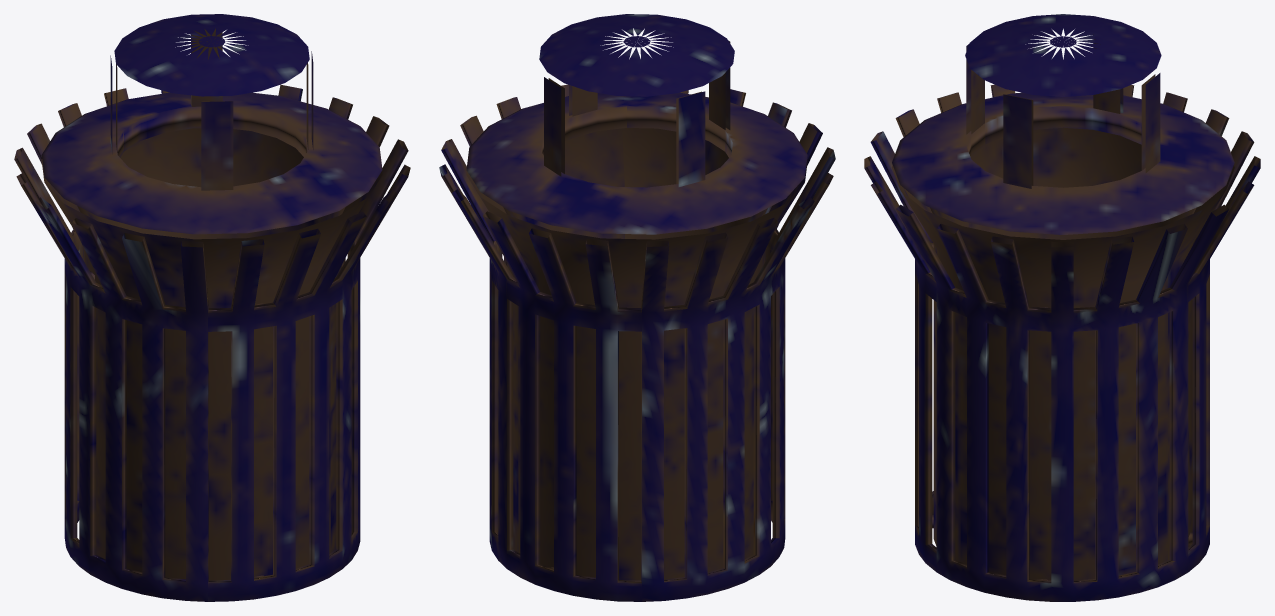
The model's file is trash_can_cap.glb.
3 renders of one model, left to right at view 1: azimuth 30°, elevation 25°; view 2: azimuth 150°, elevation 25°; view 3: azimuth 270°, elevation 25°, orthographic.
Visible parts, largest first — view 1: trash_can_cap; view 2: trash_can_cap; view 3: trash_can_cap.
Boxes of the visible parts, x1,y1,x2,y2 form: trash_can_cap: [14, 14, 410, 601]; trash_can_cap: [439, 14, 835, 601]; trash_can_cap: [864, 14, 1260, 601].
Size of the model in its own units: 0.9129 by 1.26 by 0.913.
1 material, 1 textured.
